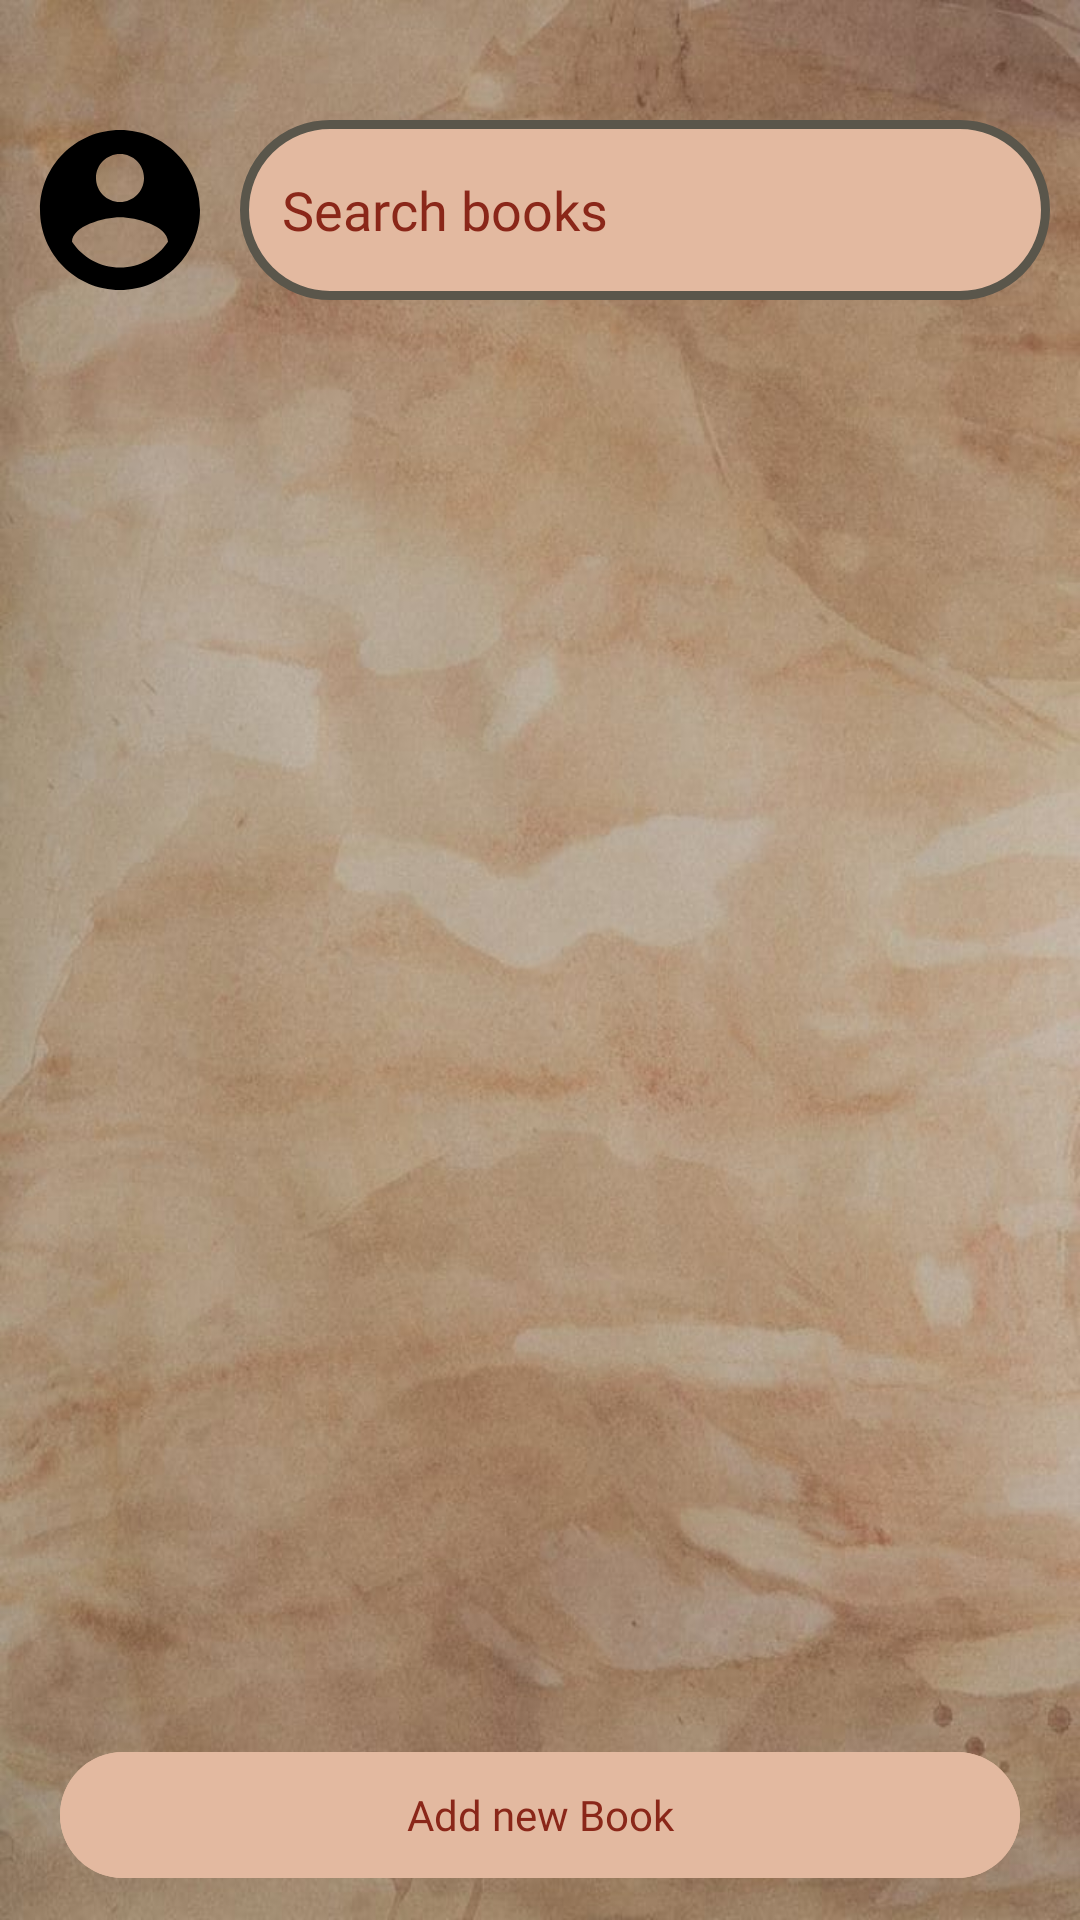

Icon click points for this 1080*1920 phone screenshot, format point (x, y):
Profile: point (115, 210)
